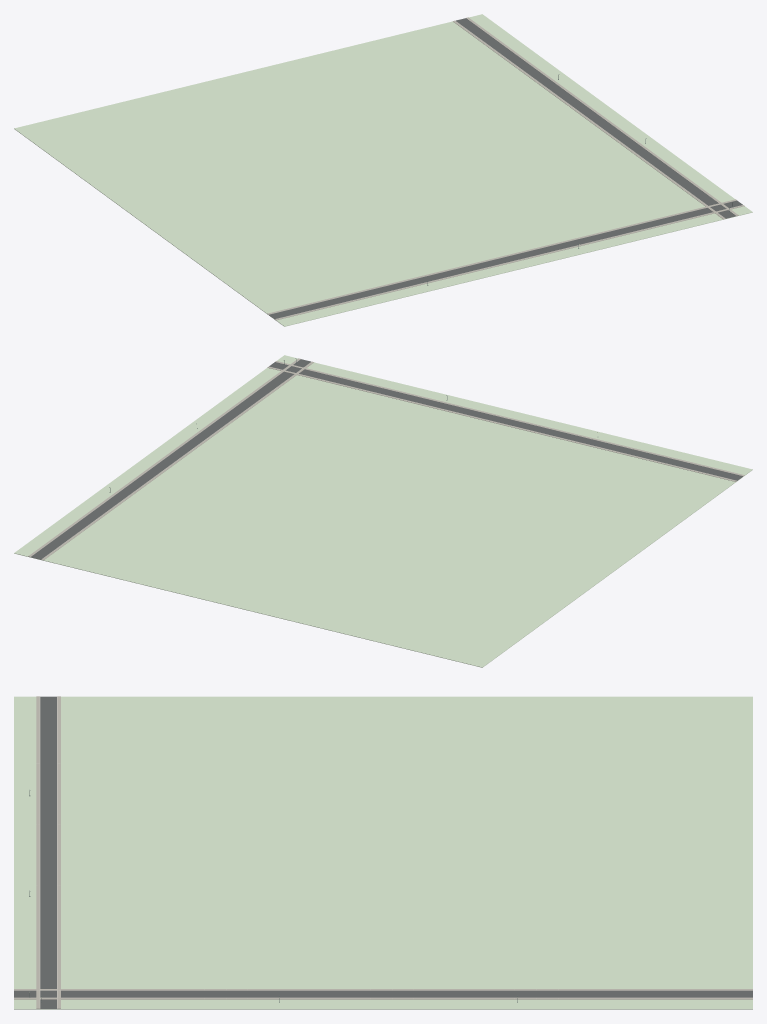
Rendered from chunk_5_5_high.glb.
3 renders of one model, top to bottom at view 1: azimuth 30°, elevation 25°; view 2: azimuth 150°, elevation 25°; view 3: azimuth 270°, elevation 25°, orthographic. The views are drawn at different scales.
Visible parts, largest first — view 1: city_grass, city_world_asphalt, city_world_sidewalk, city_curb; view 2: city_grass, city_world_asphalt, city_world_sidewalk, city_curb; view 3: city_grass, city_world_asphalt, city_world_sidewalk, city_curb.
Boxes of the visible parts, <box> form: city_grass: <box>14,14,752,326</box>; city_world_asphalt: <box>269,18,742,318</box>; city_world_sidewalk: <box>267,17,744,320</box>; city_curb: <box>269,18,742,319</box>; city_grass: <box>14,355,752,667</box>; city_world_asphalt: <box>31,359,742,559</box>; city_world_sidewalk: <box>28,358,744,560</box>; city_curb: <box>30,359,743,559</box>; city_grass: <box>14,696,752,1009</box>; city_world_asphalt: <box>14,696,752,1008</box>; city_world_sidewalk: <box>14,696,752,1008</box>; city_curb: <box>14,696,752,1008</box>.
Bounding box in the file's own units: 512 × 5.41 × 512.
